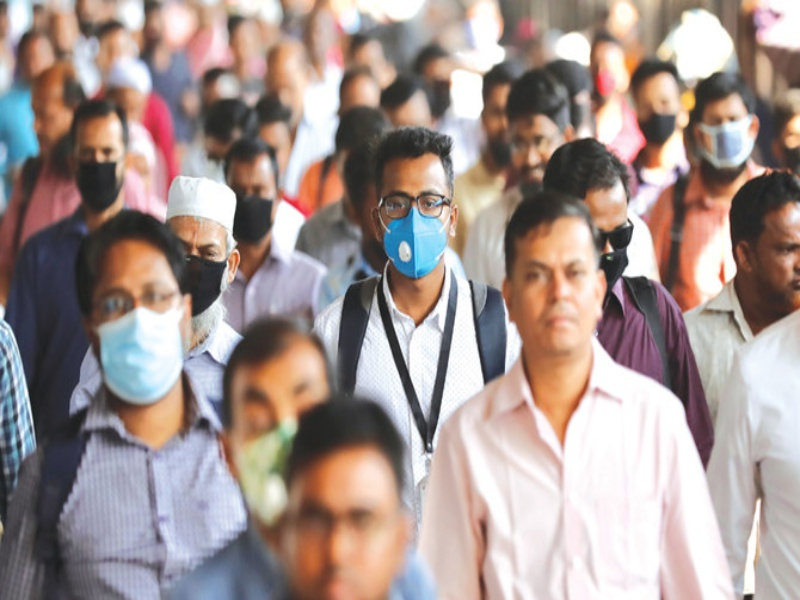ManaoArotava: (73, 224, 204, 433), (360, 129, 473, 291), (157, 169, 245, 324), (212, 140, 298, 254), (685, 73, 766, 187), (71, 101, 132, 233), (627, 55, 695, 165)
TsisyArotava: (277, 406, 409, 600), (506, 201, 618, 376), (499, 65, 582, 200)
